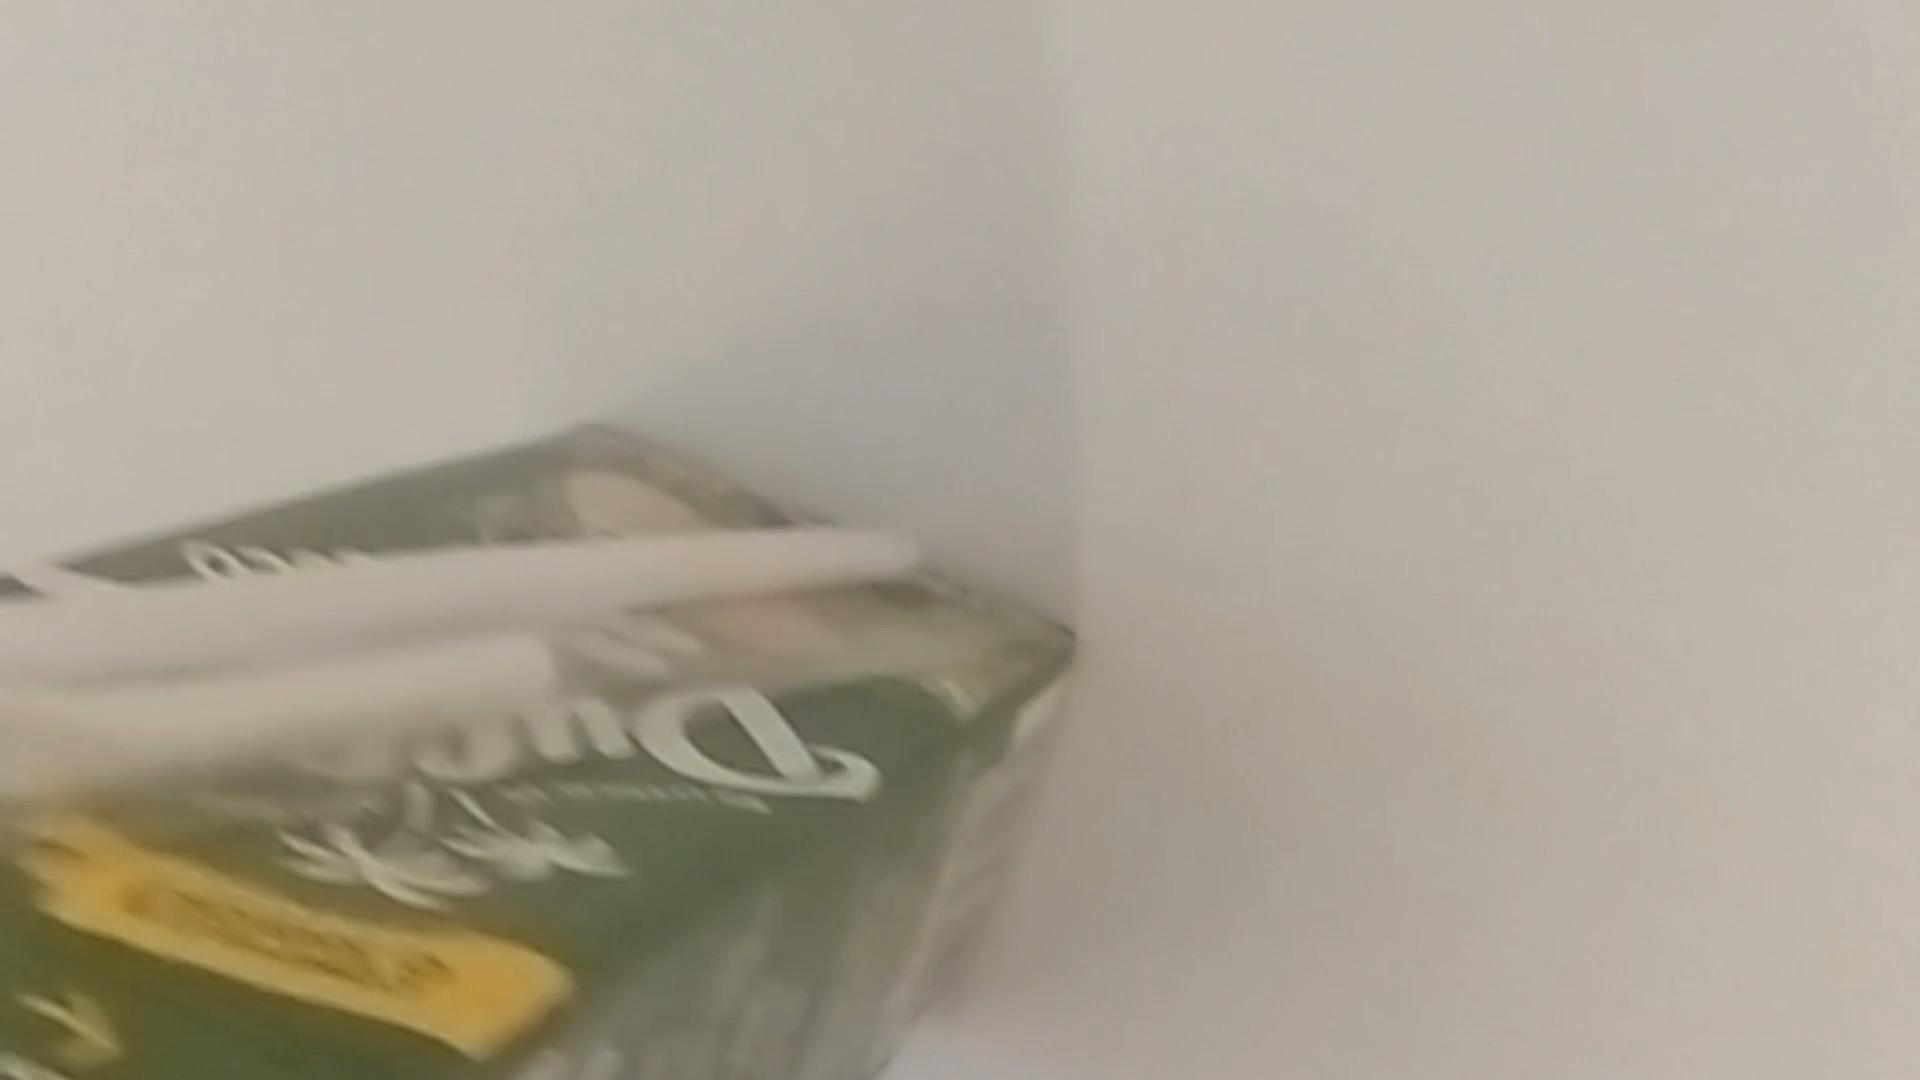coco: (3, 425, 1083, 1079)
